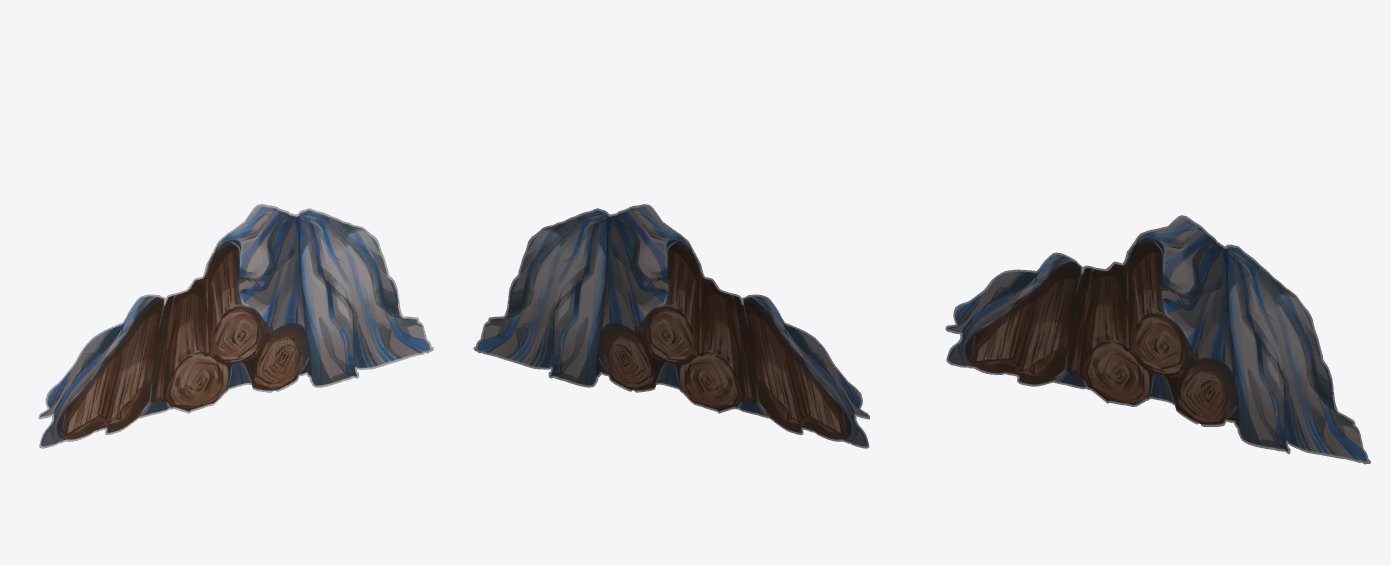
File: 地下室_堆積物3.fbx
3 renders of one model, left to right at view 1: azimuth 30°, elevation 25°; view 2: azimuth 150°, elevation 25°; view 3: azimuth 330°, elevation 25°, orthographic. The views are drawn at different scales.
Visible parts, largest first — view 1: 地下室_堆積物3; view 2: 地下室_堆積物3; view 3: 地下室_堆積物3.
Boxes of the visible parts, bbox=[...] form: 地下室_堆積物3: bbox=[38, 204, 433, 448]; 地下室_堆積物3: bbox=[473, 204, 869, 448]; 地下室_堆積物3: bbox=[945, 215, 1370, 464].
Bounding box in the file's own units: 3197 × 3197 × 15.81.
1 material, 1 textured.
